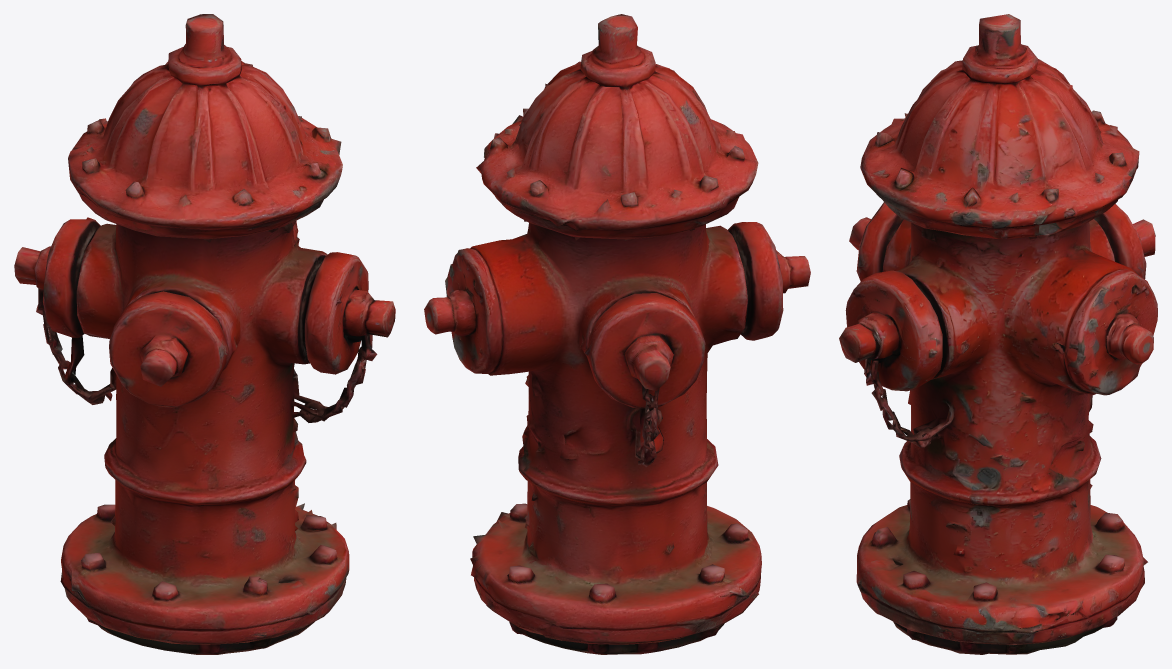
Rendered from hydrant.glb.
3 renders of one model, left to right at view 1: azimuth 30°, elevation 25°; view 2: azimuth 150°, elevation 25°; view 3: azimuth 270°, elevation 25°, orthographic.
Parts seen in each view (by area): view 1: tripo_node_ccf7286f-7b7a-4f92-9151-c6cbf1740a62; view 2: tripo_node_ccf7286f-7b7a-4f92-9151-c6cbf1740a62; view 3: tripo_node_ccf7286f-7b7a-4f92-9151-c6cbf1740a62.
Boxes of the visible parts, box(x1,y1,x2,y2) form: tripo_node_ccf7286f-7b7a-4f92-9151-c6cbf1740a62: box(14, 14, 395, 654); tripo_node_ccf7286f-7b7a-4f92-9151-c6cbf1740a62: box(424, 14, 810, 654); tripo_node_ccf7286f-7b7a-4f92-9151-c6cbf1740a62: box(839, 14, 1157, 654).
Size of the model in its own units: 0.4691 by 1 by 0.4927.
Materials: 1 (1 with a texture image).
